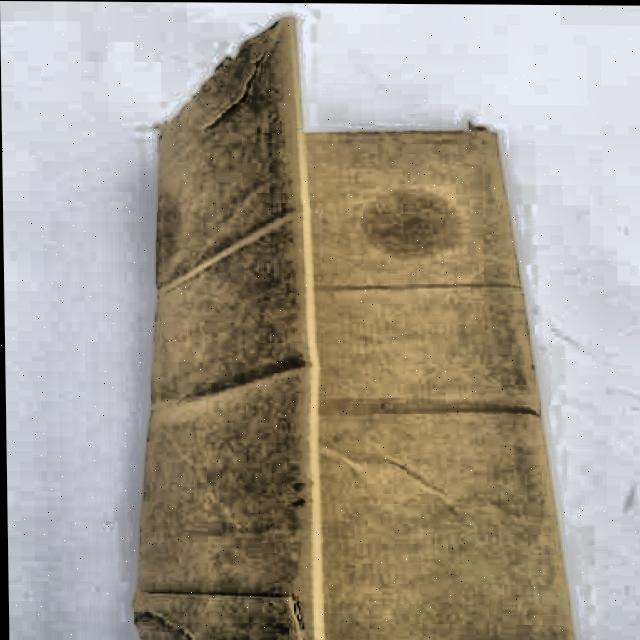cardboard: (121, 11, 581, 640)
